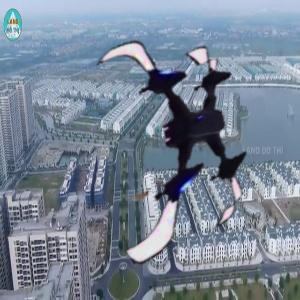drone: (66, 25, 283, 242)
